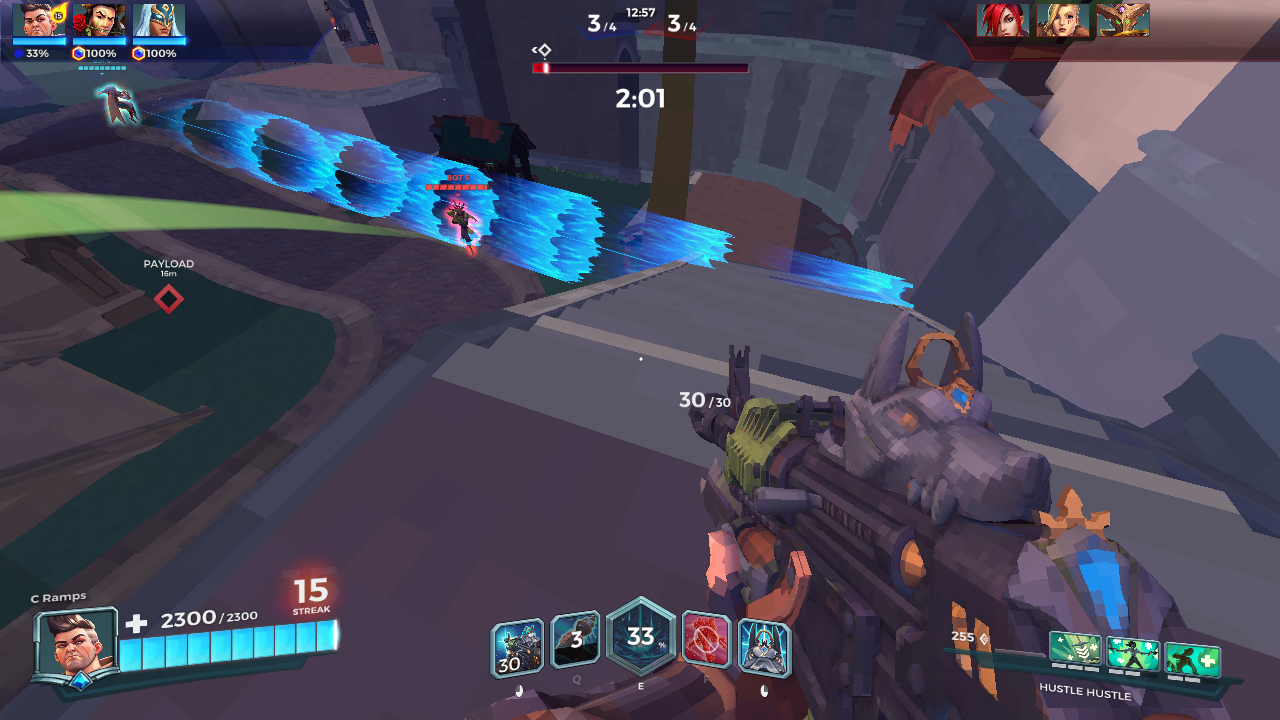model: (443, 199, 482, 255)
